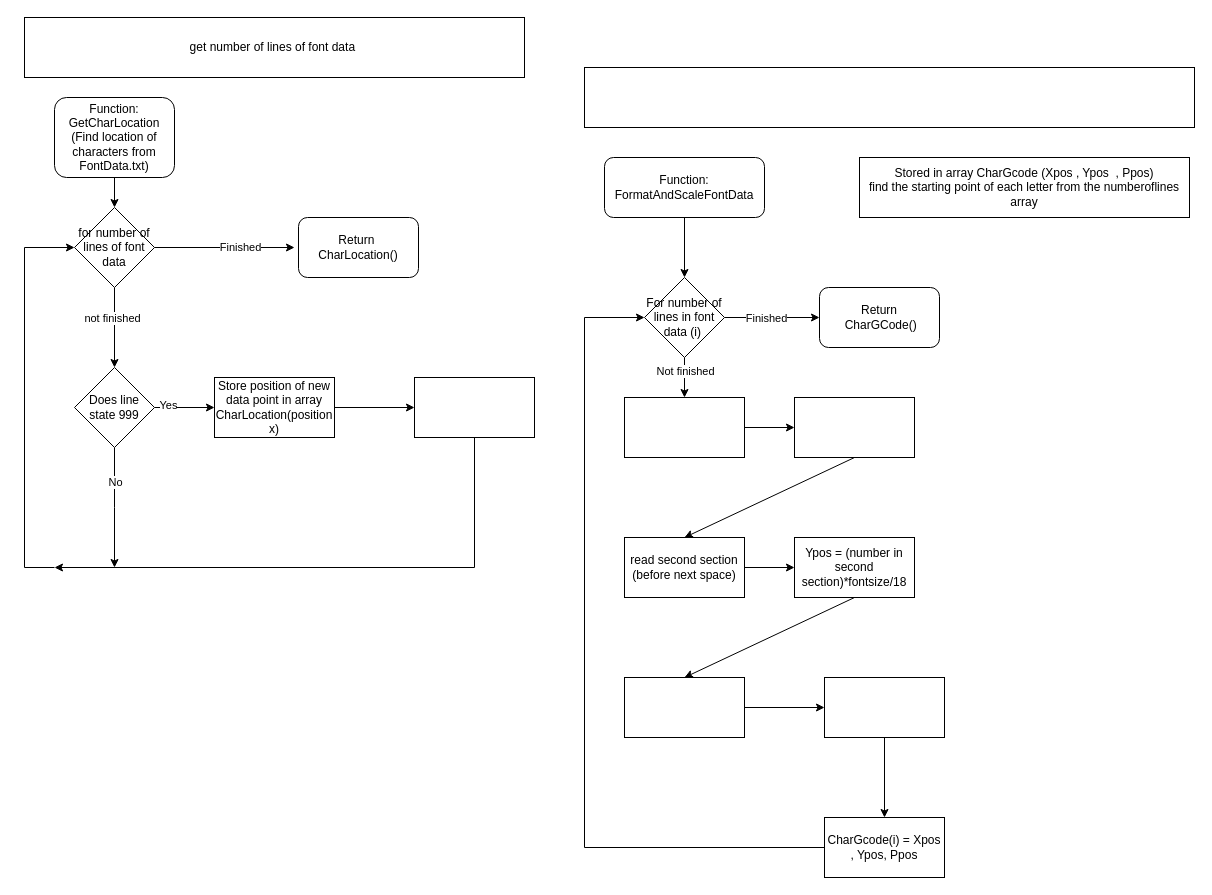
The diagram is 1212 pixels wide and 895 high, and some of its shapes have lost their labels. The centre of each missing label's shape, as x and y in pixels:
"read first section (before the space)" belongs at point (684, 427).
"read third section (before next space)" belongs at point (684, 707).
"Save to Ppos" belongs at point (884, 707).
"Store G code data for each letter (done AFTER getting fontsize)" belongs at point (889, 97).
"X=X+1" belongs at point (474, 407).
"Xpos = (number in first section) *fontsize/18" belongs at point (854, 427).
